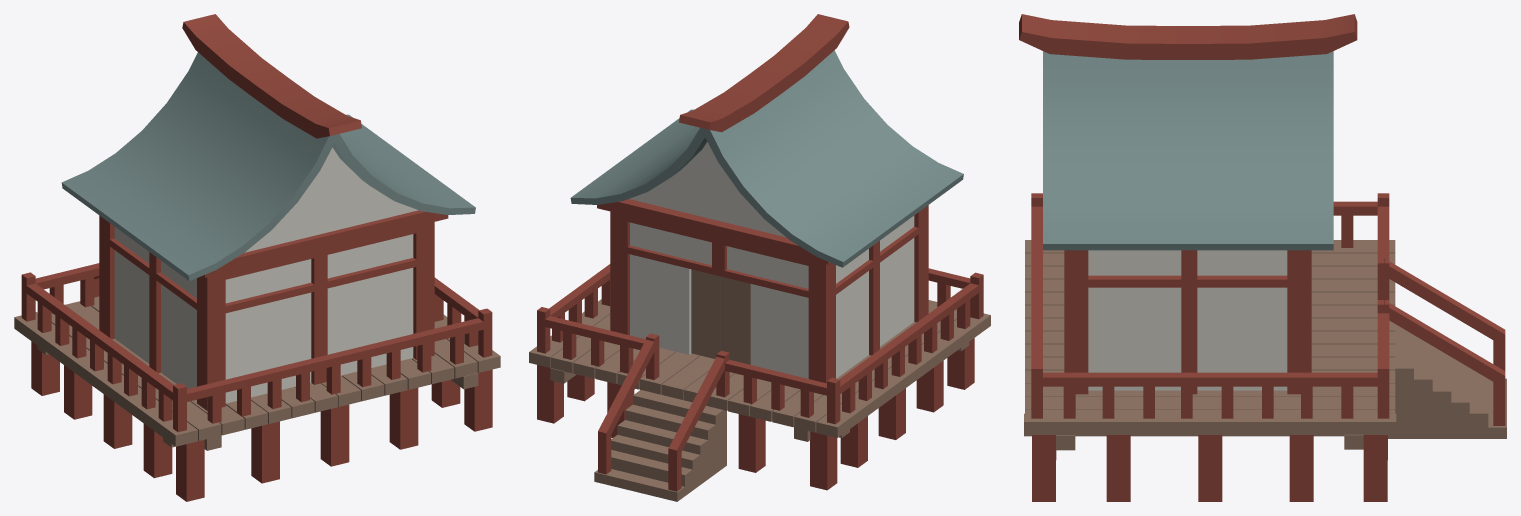
File: Huis.fbx
3 views of the same model, side by side, from view 1: azimuth 30°, elevation 25°; view 2: azimuth 150°, elevation 25°; view 3: azimuth 270°, elevation 25° (orthographic). The views are drawn at different scales.
Visible parts, largest first — view 1: Huisje; view 2: Huisje; view 3: Huisje.
Part boxes in pixels (x1,y1,x2,y2): Huisje: (14,14,500,501); Huisje: (529,14,990,501); Huisje: (1019,14,1506,501).
Bounding box in the file's own units: 7.07 × 7.12 × 7.99.
